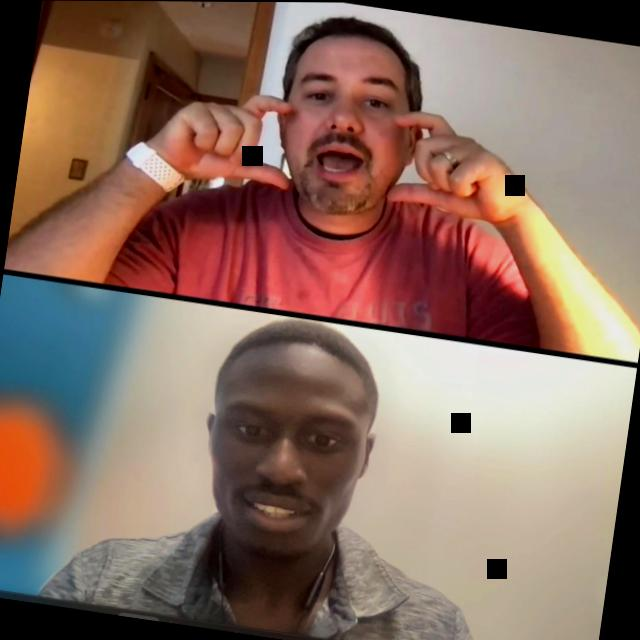NO-Mask: (188, 324, 390, 574), (267, 24, 433, 225)
